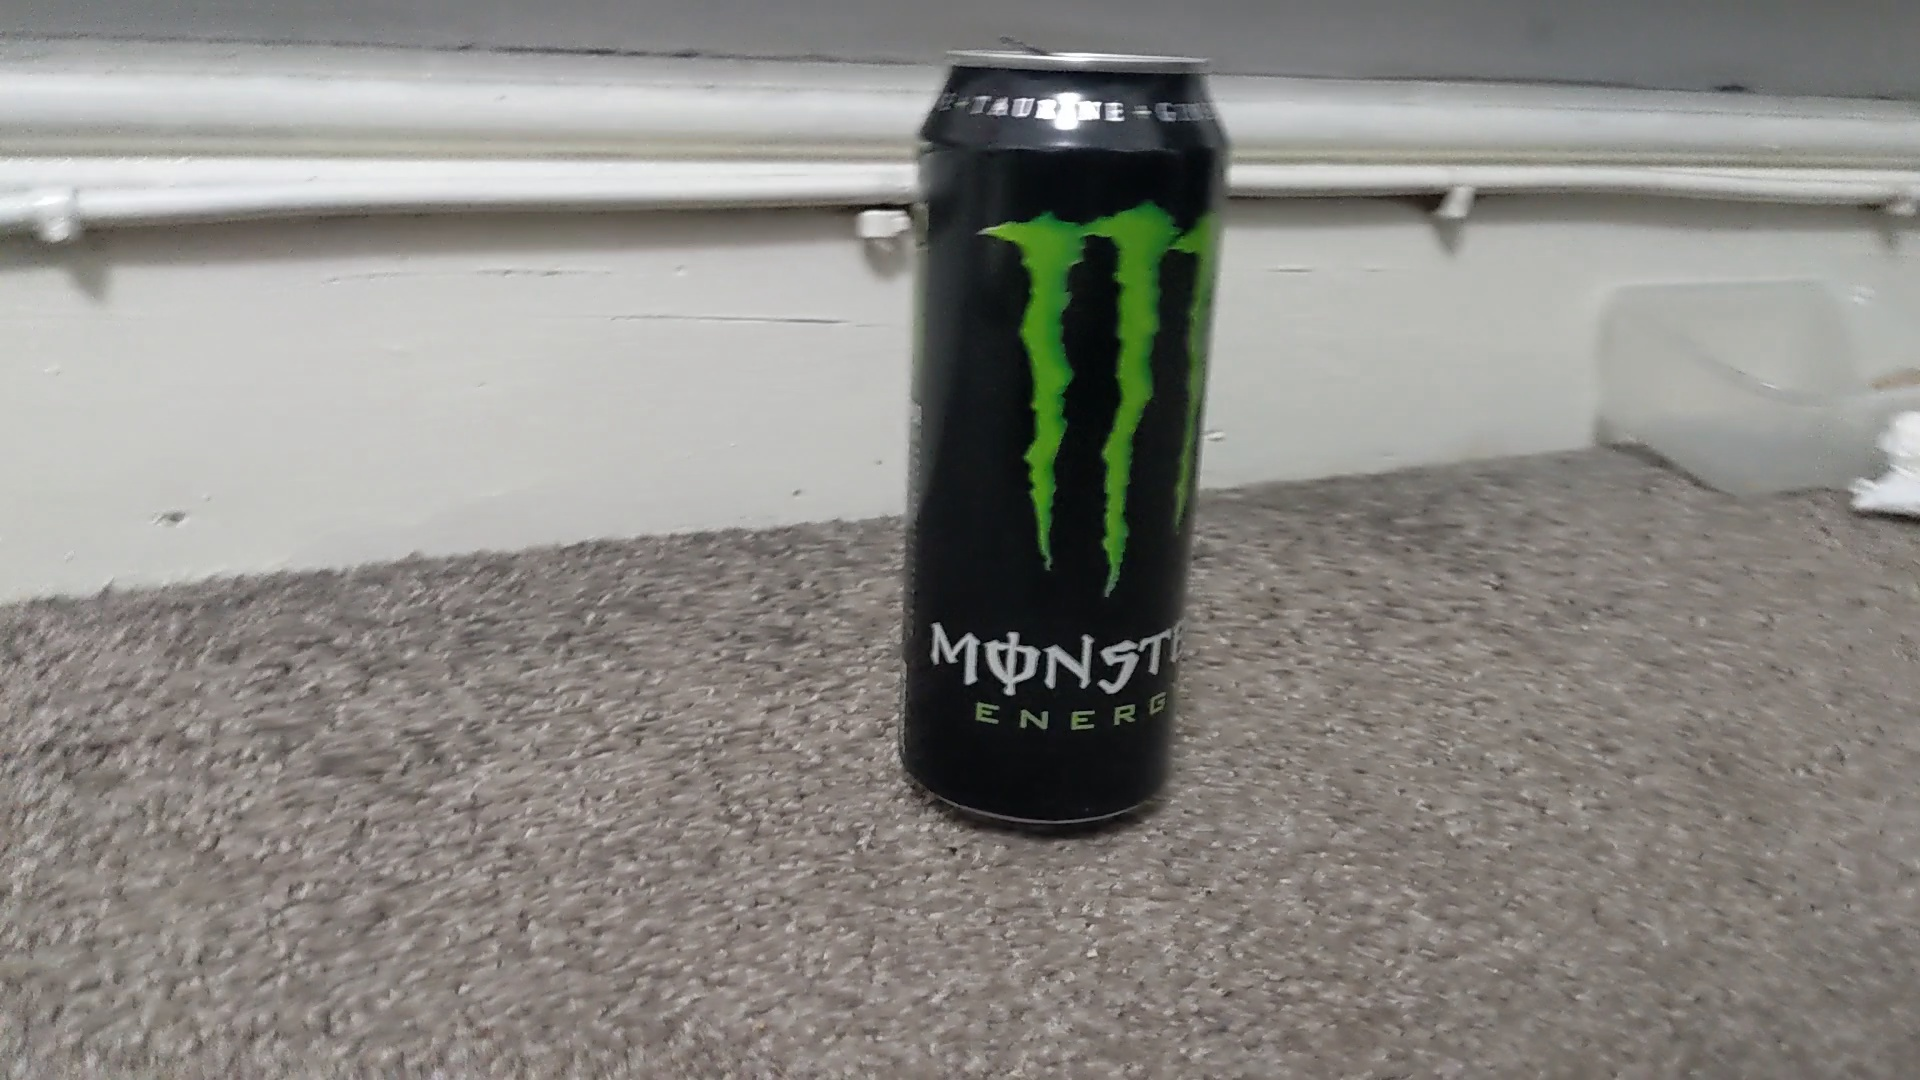monster-original: (889, 40, 1236, 840)
